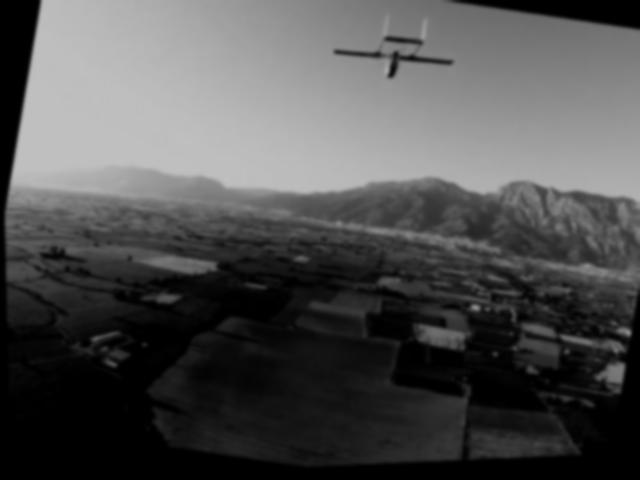hedef: (318, 0, 468, 134)
